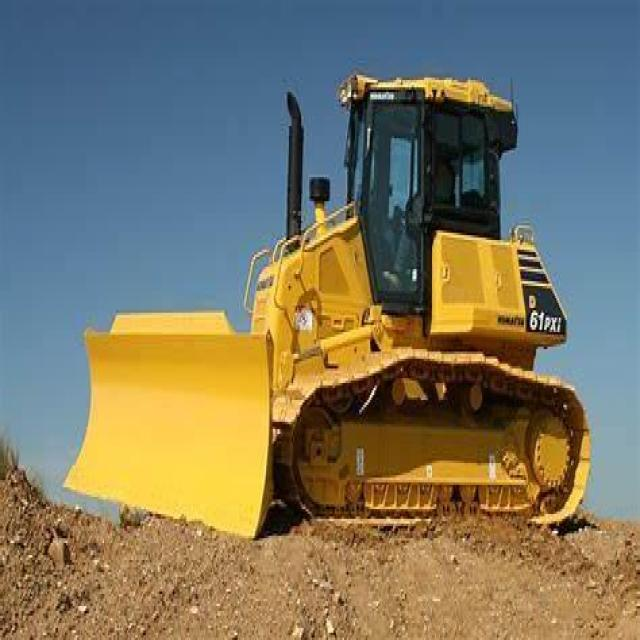buldozerpayloadergrader: (63, 39, 605, 553)
